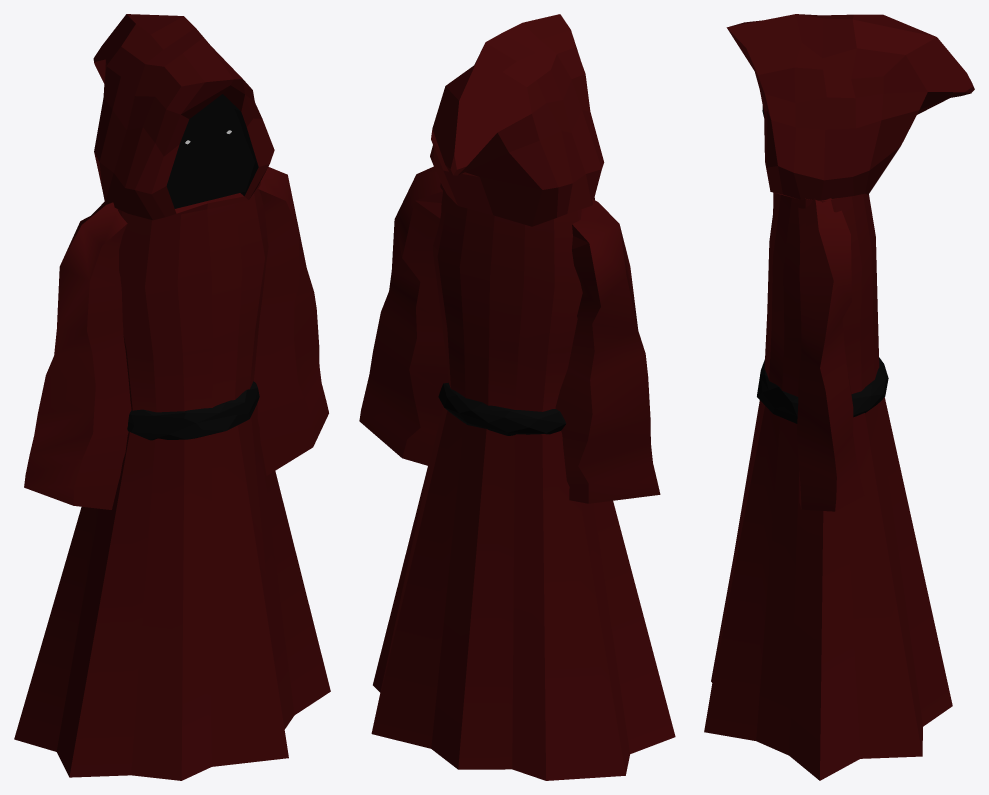
Rendered from gabriel.fbx.
3 renders of one model, left to right at view 1: azimuth 30°, elevation 25°; view 2: azimuth 150°, elevation 25°; view 3: azimuth 270°, elevation 25°, orthographic.
Visible parts, largest first — view 1: MainRobe, Arms.001, Hood, Hood Darkness edited, Torus; view 2: MainRobe, Arms.001, Hood, Torus; view 3: MainRobe, Hood, Arms.001, Torus.
Boxes of the visible parts, x1,y1,x2,y2 form: MainRobe: [14, 182, 330, 780]; Arms.001: [24, 167, 328, 509]; Hood: [93, 14, 274, 220]; Hood Darkness edited: [166, 94, 254, 208]; Torus: [127, 381, 259, 440]; MainRobe: [371, 182, 675, 780]; Arms.001: [359, 166, 660, 503]; Hood: [430, 14, 604, 226]; Torus: [438, 382, 566, 435]; MainRobe: [704, 192, 952, 780]; Hood: [726, 14, 974, 200]; Arms.001: [797, 198, 864, 511]; Torus: [757, 357, 888, 423].
Size of the model in its own units: 381 by 832 by 292.
